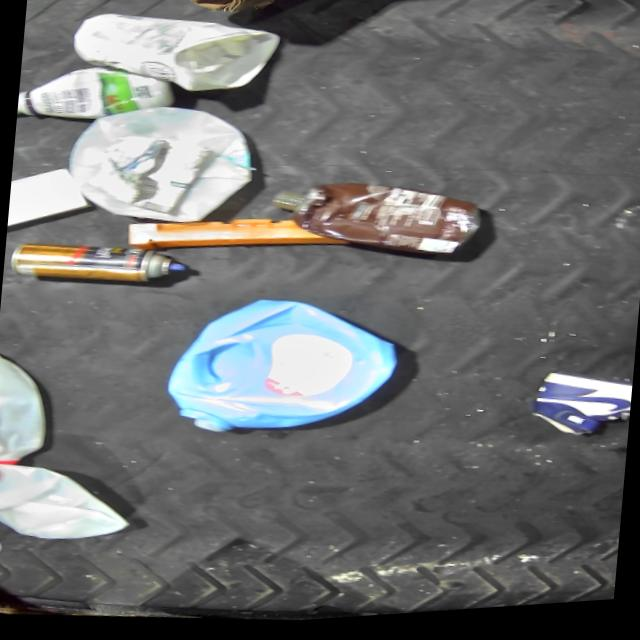can: (8, 233, 192, 296)
milk_jug: (62, 93, 258, 238), (67, 1, 281, 107), (0, 453, 133, 549), (0, 343, 56, 469)
non_white_jug: (162, 286, 404, 455)
